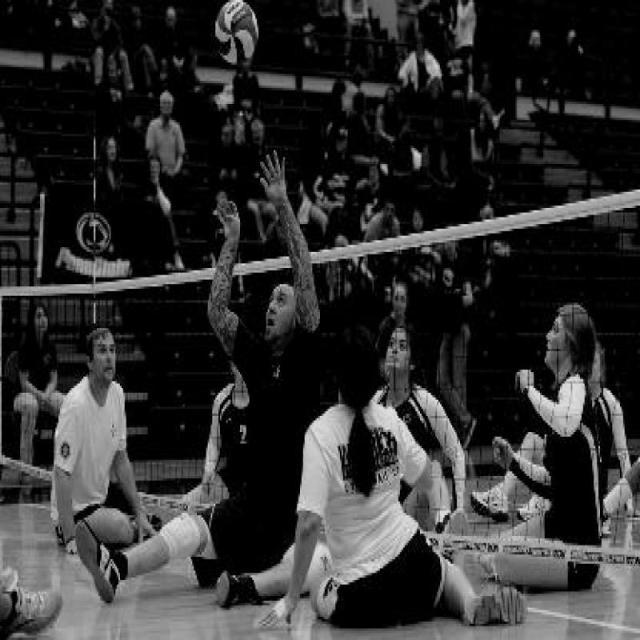volleyball: (214, 0, 258, 65)
